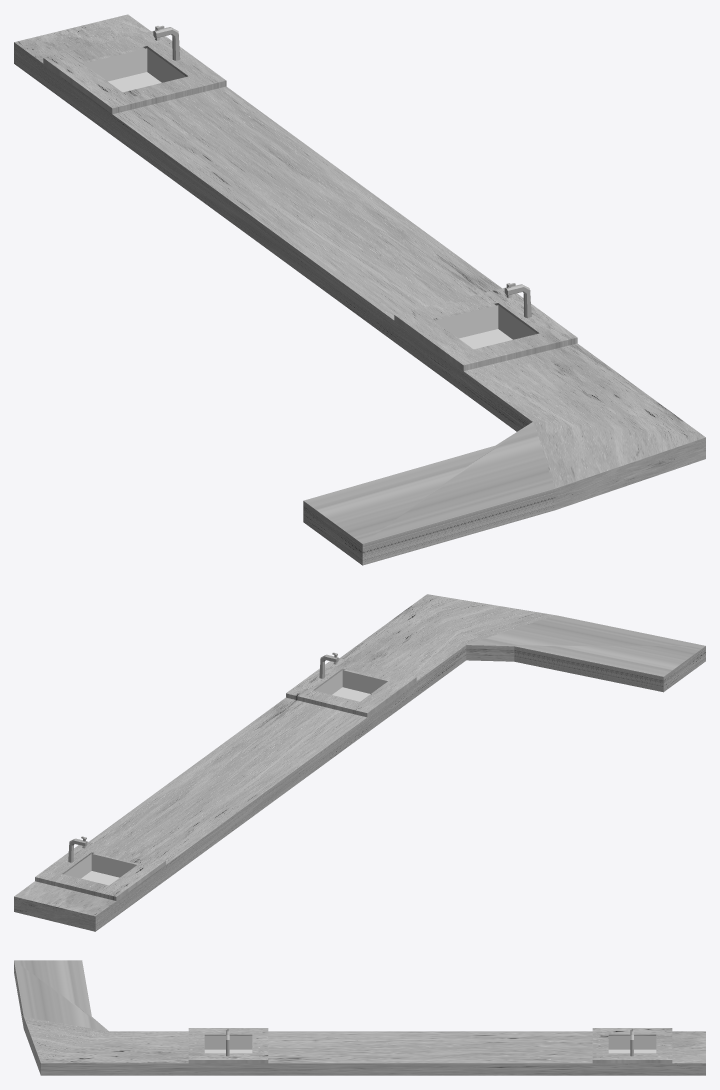
Rendered from balcão em L.fbx.
3 views of the same model, one above another, from view 1: azimuth 30°, elevation 25°; view 2: azimuth 150°, elevation 25°; view 3: azimuth 270°, elevation 25° (orthographic). The views are drawn at different scales.
Parts seen in each view (by area): view 1: balcão, balcão.001, torneira 2.001; view 2: balcão, balcão.001; view 3: balcão, balcão.001, torneira 2.001.
Part boxes in pixels (left/top/right/bottom): balcão: left=14, top=14, right=705, bottom=565; balcão.001: left=83, top=48, right=536, bottom=349; torneira 2.001: left=153, top=25, right=531, bottom=317; balcão: left=14, top=594, right=705, bottom=931; balcão.001: left=64, top=670, right=387, bottom=885; balcão: left=14, top=960, right=705, bottom=1075; balcão.001: left=204, top=1036, right=656, bottom=1053; torneira 2.001: left=226, top=1028, right=633, bottom=1056.
Size of the model in its own units: 1.79 by 0.3021 by 5.07.
3 materials, 1 textured.
